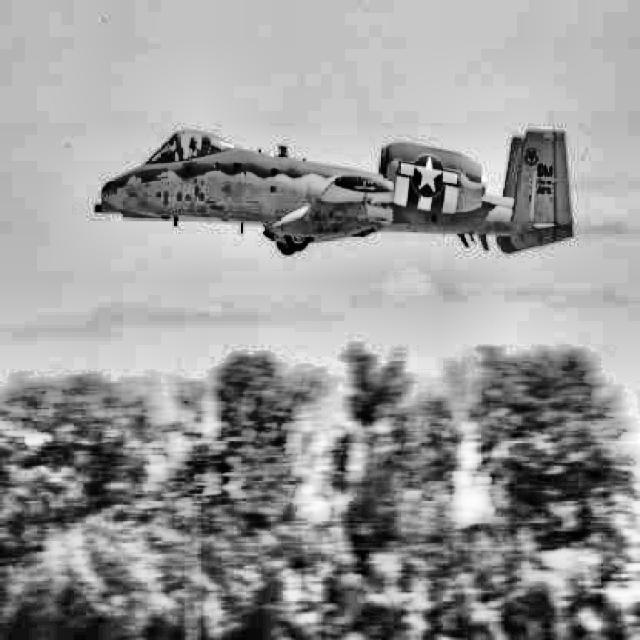A10: (94, 126, 574, 257)
